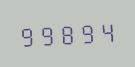eight: (58, 20, 77, 46)
four: (98, 18, 117, 44)
nine: (18, 22, 37, 48), (38, 21, 57, 47), (78, 19, 97, 45)
